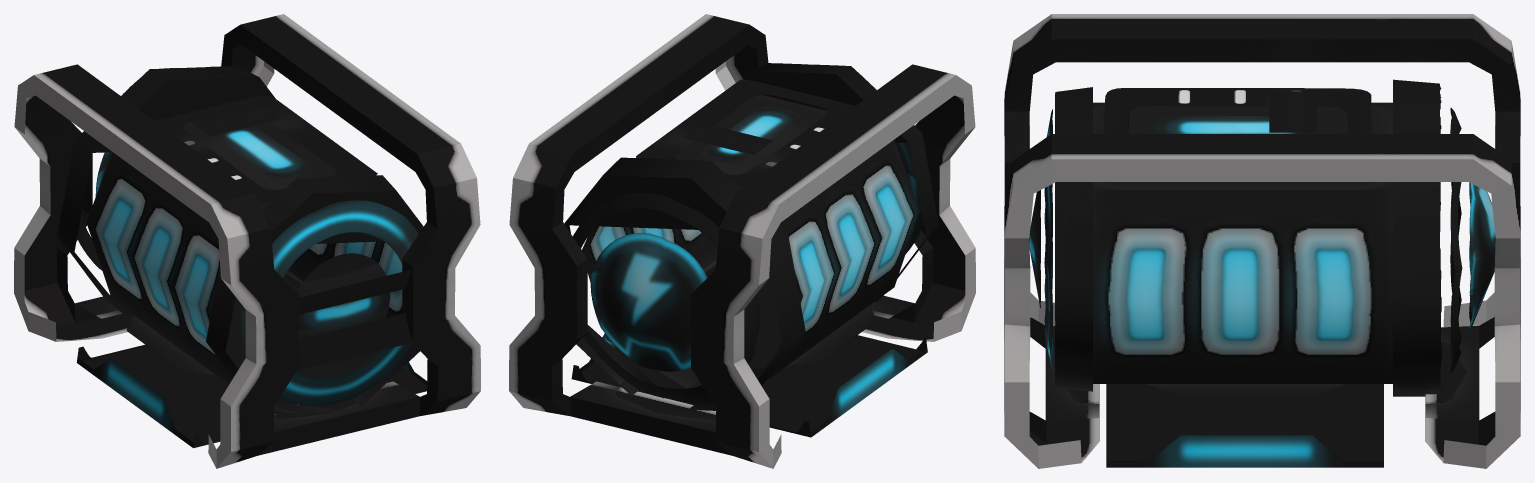
Rendered from obj_interactive_electricengine_05_lod1.fbx.
3 views of the same model, side by side, from view 1: azimuth 30°, elevation 25°; view 2: azimuth 150°, elevation 25°; view 3: azimuth 270°, elevation 25° (orthographic). The views are drawn at different scales.
Visible parts, largest first — view 1: obj_interactive_electricengine_05_off3; view 2: obj_interactive_electricengine_05_off3; view 3: obj_interactive_electricengine_05_off3.
Part boxes in pixels (x1=…): obj_interactive_electricengine_05_off3: x1=14, y1=14, x2=480, y2=468; obj_interactive_electricengine_05_off3: x1=509, y1=14, x2=975, y2=468; obj_interactive_electricengine_05_off3: x1=1004, y1=14, x2=1520, y2=468.
Size of the model in its own units: 2 by 2.06 by 3.
Materials: 1 (1 with a texture image).
